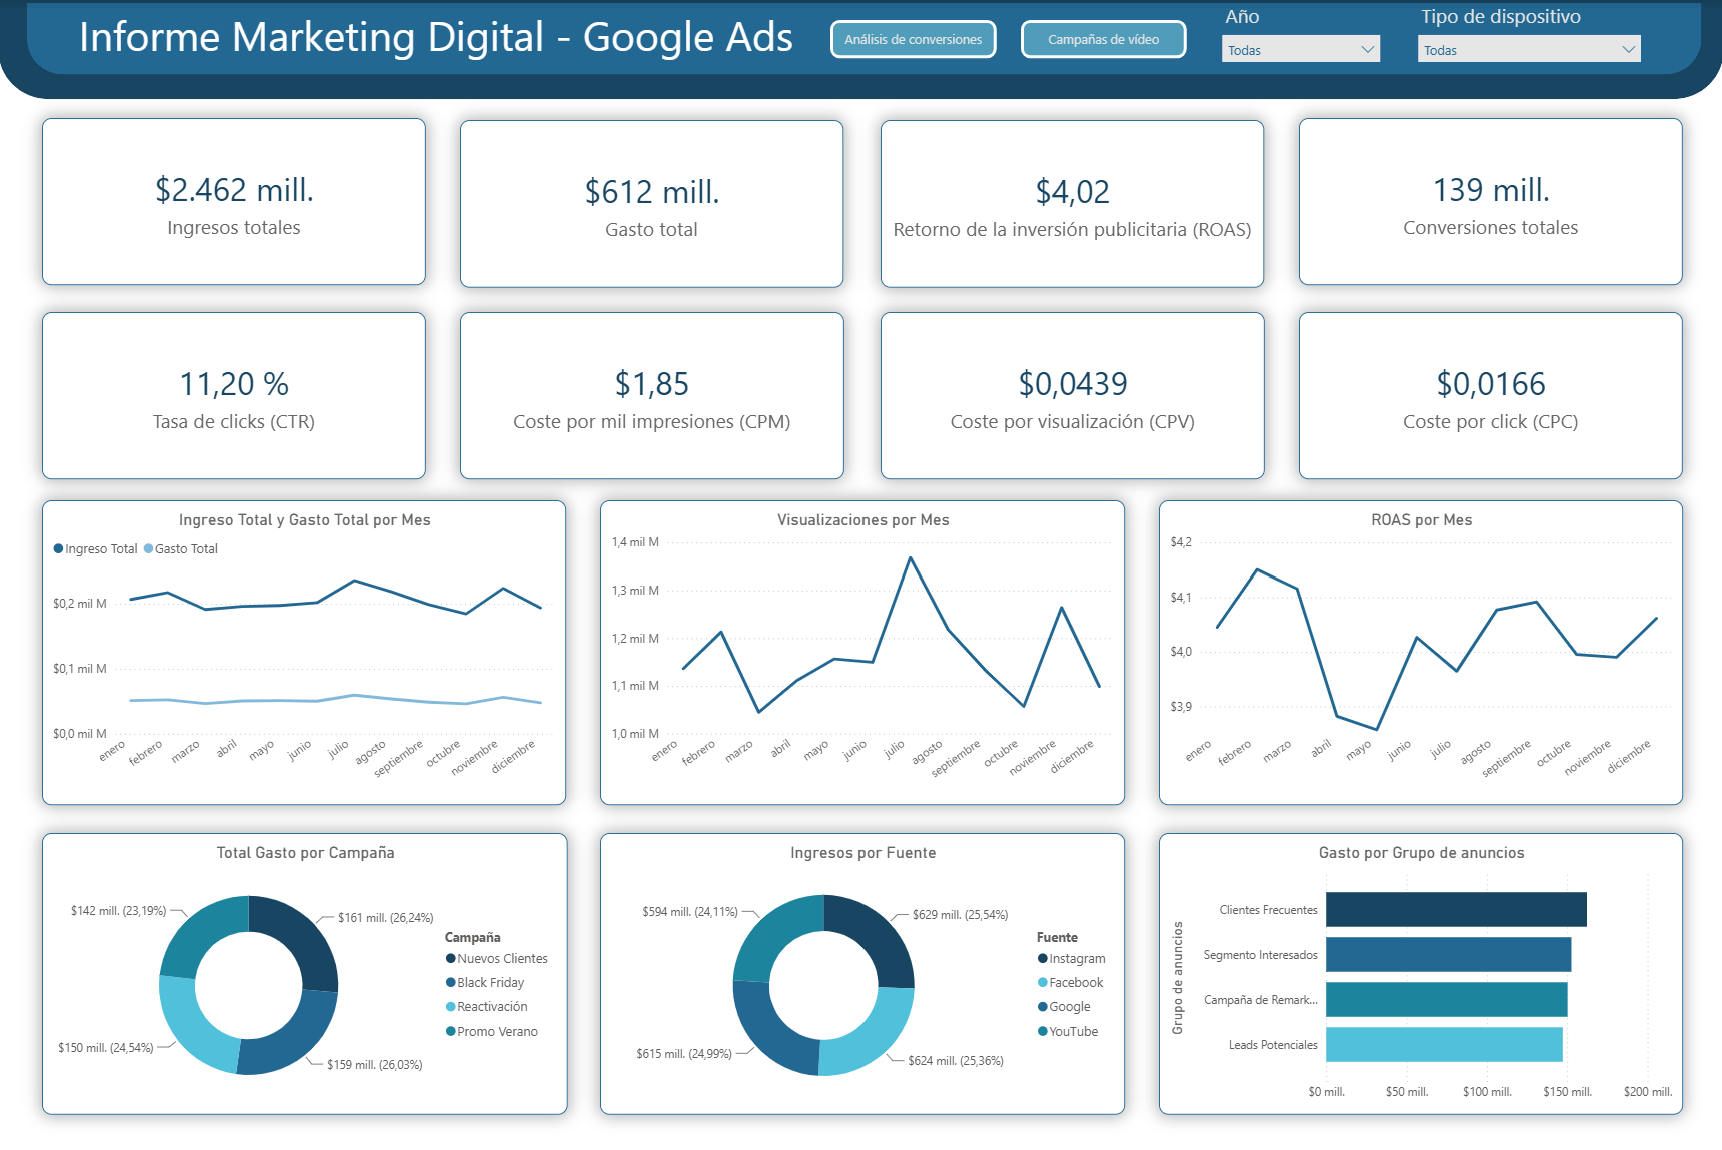

The dashboard page shown, as its layout file describes it:
{"tool":"powerbi","page":{"name":"Resumen Ejecutivo","canvas":[1800,1200],"ordinal":0},"visuals":[{"type":"shape","box":[0,0,1800,103.4],"z":0},{"type":"shape","box":[22.2,0,1755.7,82.8],"z":1000},{"type":"slicer","fields":{"Values":["Calendario.Año"]},"box":[1265,0,183.3,68],"z":2000},{"type":"card","fields":{"Values":["Medidas.Total Gasto"]},"box":[483.1,124.4,400,175],"z":3000},{"type":"card","title":"Ingresos totales","fields":{"Values":["Medidas.Total Ingresos"]},"box":[45.8,124.1,400.5,174.4],"z":4000},{"type":"card","fields":{"Values":["Medidas.CPM"]},"box":[482.8,325.1,400.5,174.4],"z":5000},{"type":"card","fields":{"Values":["Medidas.ROAS"]},"box":[919.9,124.4,400,175],"z":6000},{"type":"card","fields":{"Values":["Medidas.CPV"]},"box":[919.7,325.1,400.5,174.4],"z":7000},{"type":"card","fields":{"Values":["Medidas.CTR"]},"box":[45.8,325.1,400.5,174.4],"z":8000},{"type":"card","fields":{"Values":["Medidas.Total Conversiones"]},"box":[1356.7,124.1,400.5,174.4],"z":9000},{"type":"card","fields":{"Values":["Medidas.CPC"]},"box":[1356.7,325.1,400.5,174.4],"z":10000},{"type":"lineChart","fields":{"Y":["Medidas.Total Ingresos","Medidas.Total Gasto"],"Category":["Calendario.Nombre del mes"]},"box":[45.8,521.7,546.8,317.7],"z":11000},{"type":"lineChart","fields":{"Category":["Calendario.Nombre del mes"],"Y":["Medidas.Total Visualizaciones"]},"box":[628.1,521.7,546.8,317.7],"z":12000},{"type":"lineChart","fields":{"Category":["Calendario.Nombre del mes"],"Y":["Medidas.ROAS"]},"box":[1210.3,521.7,546.8,317.7],"z":13000},{"type":"donutChart","fields":{"Category":["Dim_Campaña.Campaña: Nombre de campaña"],"Y":["Medidas.Total Gasto"]},"box":[45.8,869,548.3,294.1],"z":14000},{"type":"donutChart","fields":{"Category":["Dim_Fuente.Dimensión: Fuente"],"Y":["Medidas.Total Ingresos"]},"box":[628.8,869,546.8,294.1],"z":15000},{"type":"barChart","fields":{"Category":["Dim_Grupo.Grupo de anuncios"],"Y":["Medidas.Total Gasto"]},"box":[1210.3,869,546.8,294.1],"z":16000},{"type":"textbox","box":[79.8,3,787.7,70.9],"z":17000},{"type":"slicer","fields":{"Values":["Dim_Dispositivo.Audiencia: Tipo de dispositivo"]},"box":[1469,0,251.2,68],"z":18000},{"type":"actionButton","box":[867.5,20.7,172.9,39.9],"z":19000},{"type":"actionButton","box":[1067,20.7,172.9,39.9],"z":20000}]}

Visuals, with their boxes in screenshot pixels (x1, y1, x2, y2), scaled from the page's 1800x1200 canvas onto the 1722x1150 screenshot:
shape: bbox=[0, 0, 1721, 99]
shape: bbox=[21, 0, 1701, 79]
slicer - Calendario.Año: bbox=[1210, 0, 1386, 65]
card - Medidas.Total Gasto: bbox=[462, 119, 845, 287]
"Ingresos totales" card: bbox=[44, 119, 427, 286]
card - Medidas.CPM: bbox=[462, 312, 845, 479]
card - Medidas.ROAS: bbox=[880, 119, 1263, 287]
card - Medidas.CPV: bbox=[880, 312, 1263, 479]
card - Medidas.CTR: bbox=[44, 312, 427, 479]
card - Medidas.Total Conversiones: bbox=[1298, 119, 1681, 286]
card - Medidas.CPC: bbox=[1298, 312, 1681, 479]
lineChart - Medidas.Total Ingresos x Medidas.Total Gasto: bbox=[44, 500, 567, 804]
lineChart - Calendario.Nombre del mes x Medidas.Total Visualizaciones: bbox=[601, 500, 1124, 804]
lineChart - Calendario.Nombre del mes x Medidas.ROAS: bbox=[1158, 500, 1681, 804]
donutChart - Dim_Campaña.Campaña: Nombre de campaña x Medidas.Total Gasto: bbox=[44, 833, 568, 1115]
donutChart - Dim_Fuente.Dimensión: Fuente x Medidas.Total Ingresos: bbox=[602, 833, 1125, 1115]
barChart - Dim_Grupo.Grupo de anuncios x Medidas.Total Gasto: bbox=[1158, 833, 1681, 1115]
textbox: bbox=[76, 3, 830, 71]
slicer - Dim_Dispositivo.Audiencia: Tipo de dispositivo: bbox=[1405, 0, 1646, 65]
actionButton: bbox=[830, 20, 995, 58]
actionButton: bbox=[1021, 20, 1186, 58]
